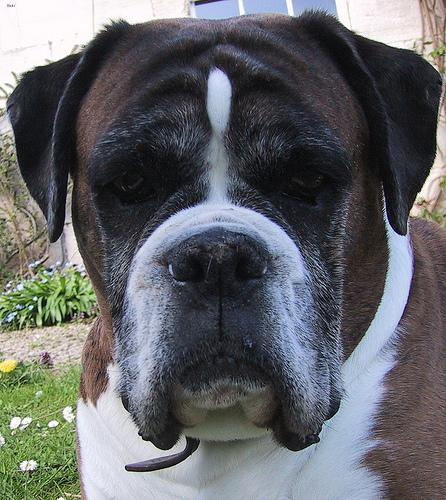dog-boxer: (5, 11, 441, 449)
